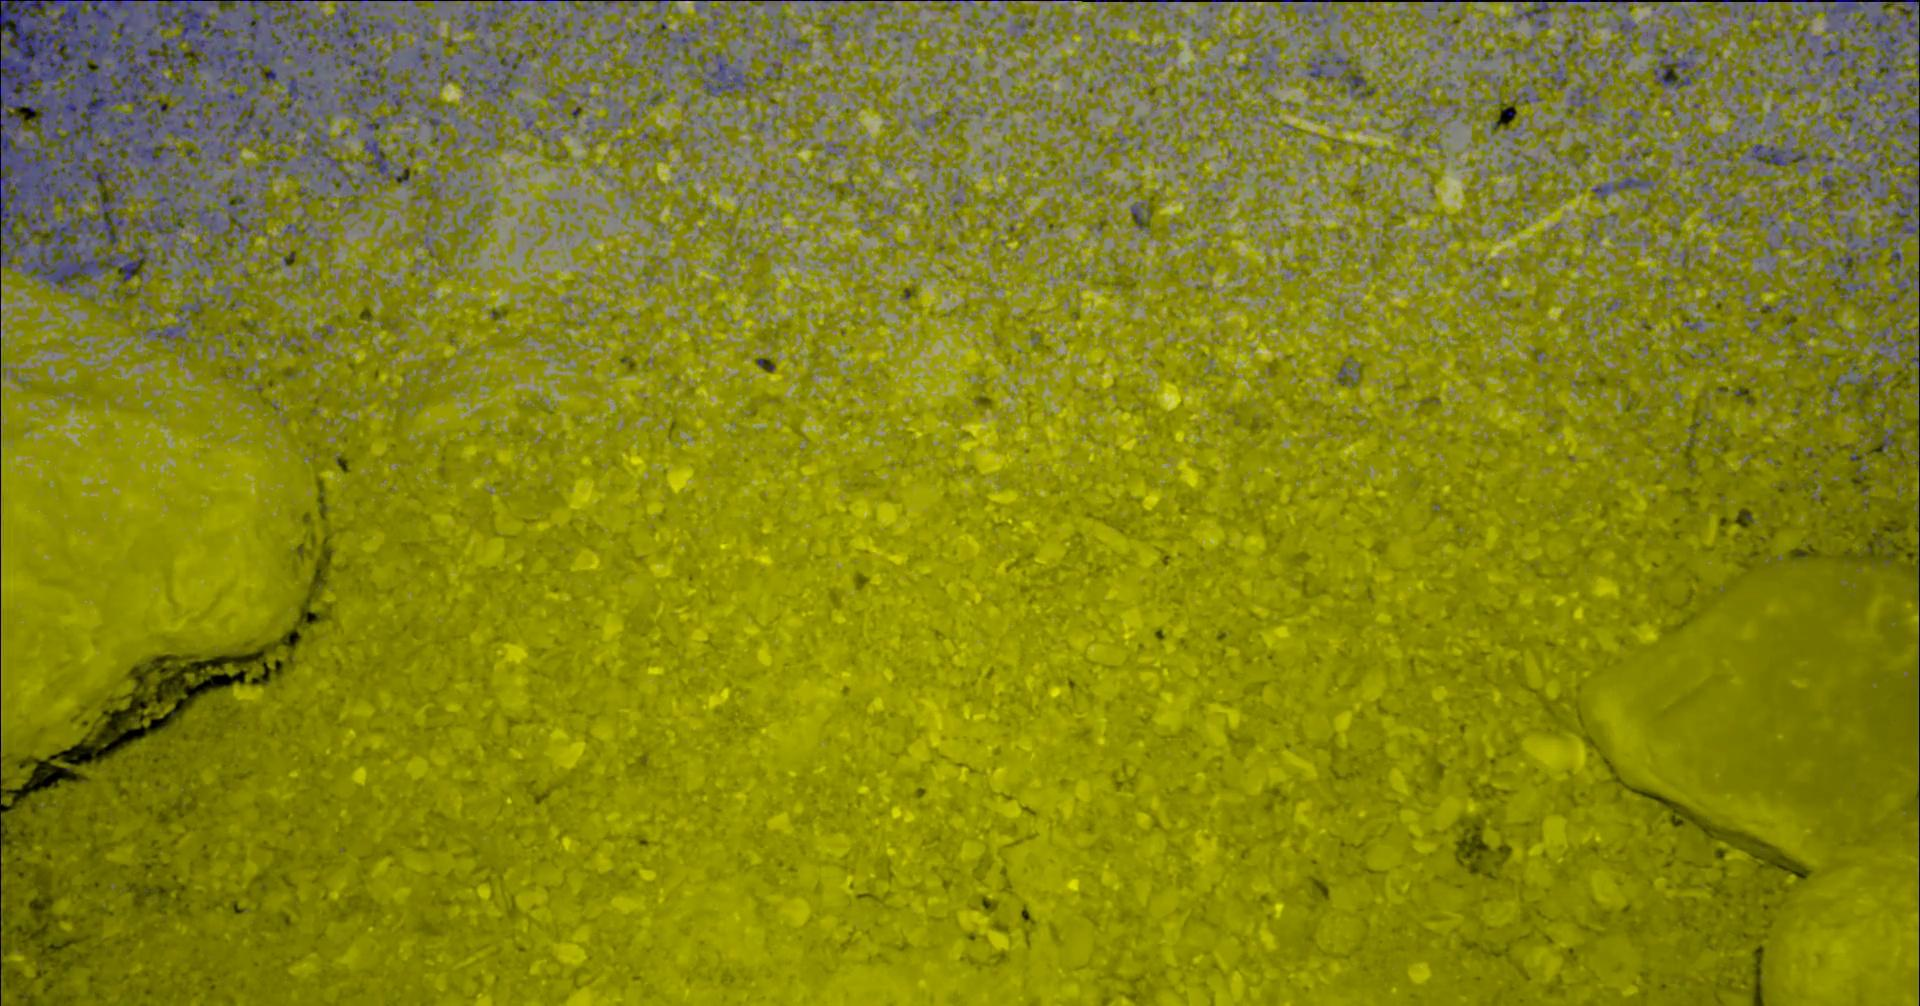ant: (277, 75, 324, 130), (486, 0, 559, 30), (362, 138, 411, 183), (703, 53, 749, 97), (1655, 47, 1702, 88), (298, 128, 343, 169), (1592, 177, 1655, 201), (1815, 0, 1870, 27), (1823, 38, 1865, 74), (463, 72, 516, 99), (1750, 144, 1810, 166), (225, 191, 251, 232), (1309, 52, 1349, 77), (1830, 251, 1862, 277), (155, 318, 193, 338), (491, 52, 524, 72), (197, 205, 218, 235), (1517, 0, 1552, 19), (1342, 67, 1368, 93), (187, 140, 216, 161), (1131, 205, 1153, 229), (1835, 282, 1868, 297), (676, 33, 697, 52), (182, 295, 204, 312), (1552, 64, 1568, 88), (1571, 85, 1589, 105), (364, 116, 390, 130), (1839, 109, 1862, 124), (276, 130, 298, 145), (465, 9, 481, 29), (1881, 429, 1896, 450), (1818, 175, 1837, 191), (1895, 276, 1910, 293), (417, 46, 430, 65), (1848, 229, 1860, 249), (1907, 77, 1920, 97), (1891, 245, 1903, 264), (1622, 18, 1637, 33), (424, 116, 443, 126), (1919, 662, 1920, 742), (1919, 542, 1920, 600)
